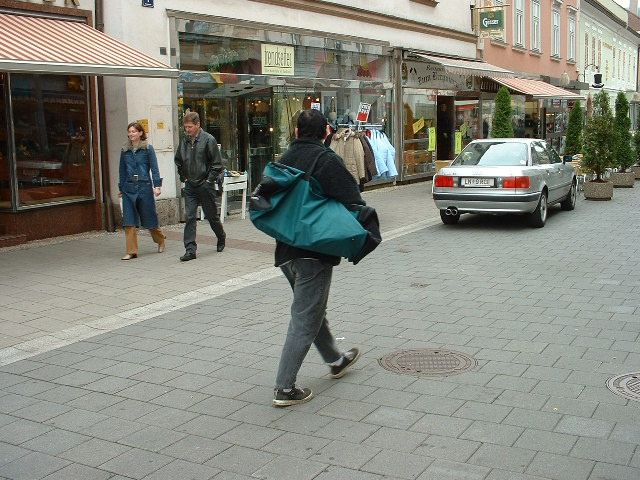person: (257, 103, 367, 403), (171, 112, 228, 259), (114, 118, 167, 260)
